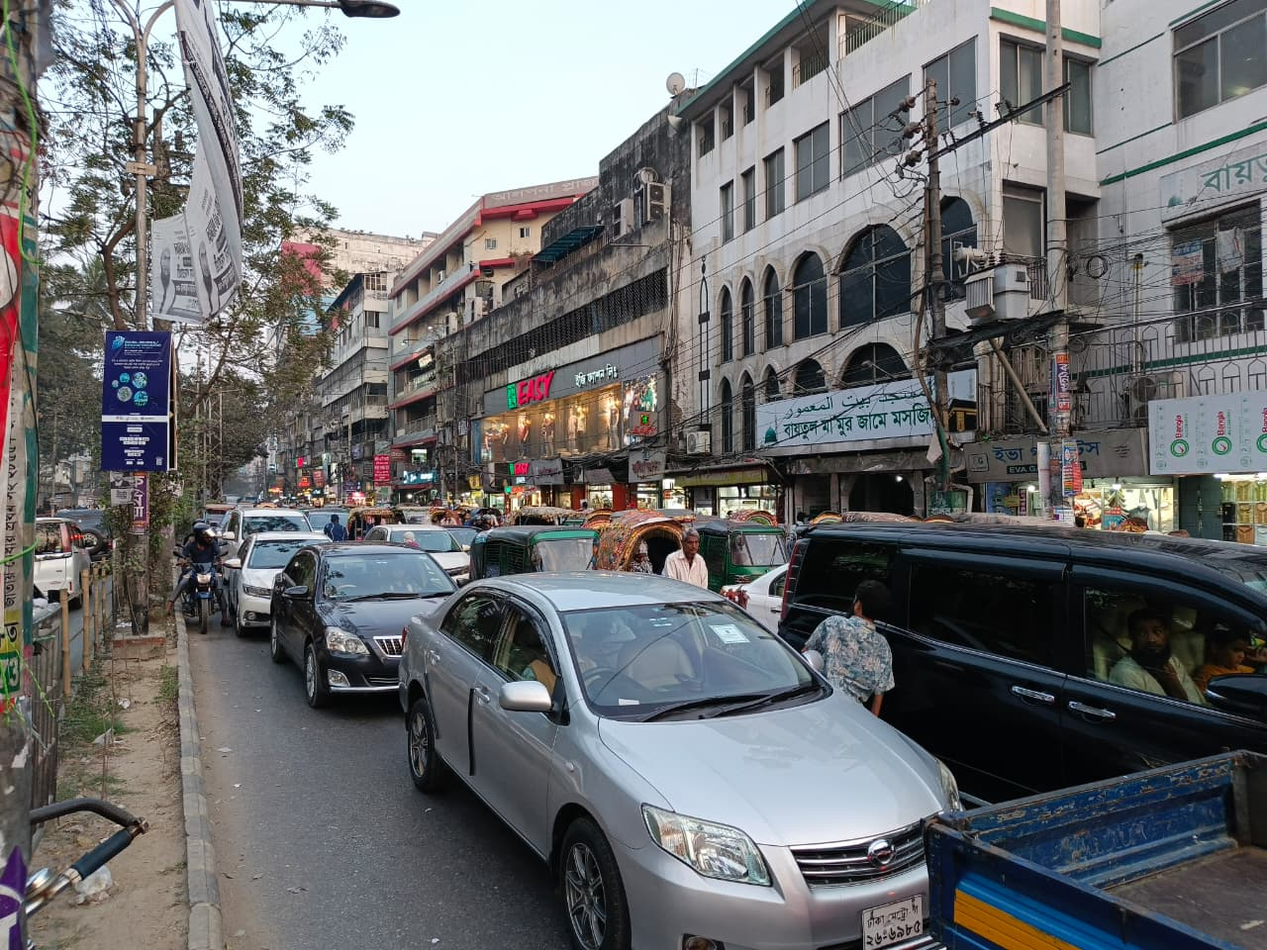Bikes: (166, 507, 236, 661)
auto-ricksaw: (608, 479, 706, 588)
cng: (459, 509, 622, 607), (697, 487, 824, 587)
private car: (201, 430, 928, 950), (788, 473, 1267, 764)
